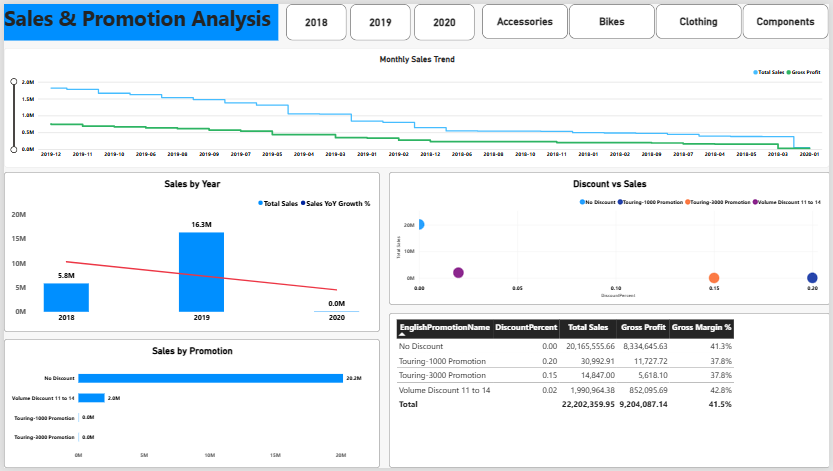

The page's visual inventory and layout, read from the dashboard file:
{"tool":"powerbi","page":{"name":"Sales & Promotion Analysis","canvas":[1920,1080],"ordinal":3},"visuals":[{"type":"textbox","box":[0,0,637.5,85],"z":0},{"type":"advancedSlicerVisual","fields":{"Values":["Dim_Date.Year"]},"box":[655,0,440,85],"z":1},{"type":"advancedSlicerVisual","fields":{"Values":["Dim_Products.ProductCategoryName"]},"box":[1111.6,0,809.3,81.4],"z":2},{"type":"lineChart","title":"Monthly Sales Trend","fields":{"Category":["Dim_Date.Year Month"],"Y":["Measures (2).Total Sales","Measures (2).Gross Profit"]},"box":[0,102.5,1920,277.5],"z":4},{"type":"lineClusteredColumnComboChart","title":"Sales by Year","fields":{"Category":["Dim_Date.Year"],"Y":["Measures (2).Total Sales"],"Y2":["Measures (2).Sales YoY Growth %"]},"box":[0,390.7,874.4,372.1],"z":5},{"type":"clusteredBarChart","title":"Sales by Promotion","fields":{"Category":["Dim_Promotion.EnglishPromotionName"],"Y":["Measures (2).Total Sales"]},"box":[0,779.1,874.4,300],"z":6},{"type":"scatterChart","title":"Discount vs Sales","fields":{"X":["Dim_Promotion.DiscountPercent"],"Y":["Measures (2).Total Sales"],"Series":["Dim_Promotion.EnglishPromotionName"]},"box":[895.3,390.7,1025.6,309.3],"z":7},{"type":"tableEx","fields":{"Values":["Dim_Promotion.EnglishPromotionName","Dim_Promotion.DiscountPercent","Measures (2).Total Sales","Measures (2).Gross Profit","Measures (2).Gross Margin %"]},"box":[895.3,718.6,1025.6,360.5],"z":8}]}

Visuals, with their boxes in screenshot pixels (x1, y1, x2, y2), scaled from the page's 1920x1080 canvas onto the 833x471 screenshot:
textbox: box=[0, 0, 277, 37]
advancedSlicerVisual - Dim_Date.Year: box=[284, 0, 475, 37]
advancedSlicerVisual - Dim_Products.ProductCategoryName: box=[482, 0, 832, 35]
"Monthly Sales Trend" lineChart: box=[0, 45, 832, 166]
"Sales by Year" lineClusteredColumnComboChart: box=[0, 170, 379, 333]
"Sales by Promotion" clusteredBarChart: box=[0, 340, 379, 470]
"Discount vs Sales" scatterChart: box=[388, 170, 832, 305]
tableEx - Dim_Promotion.EnglishPromotionName x Dim_Promotion.DiscountPercent: box=[388, 313, 832, 470]
